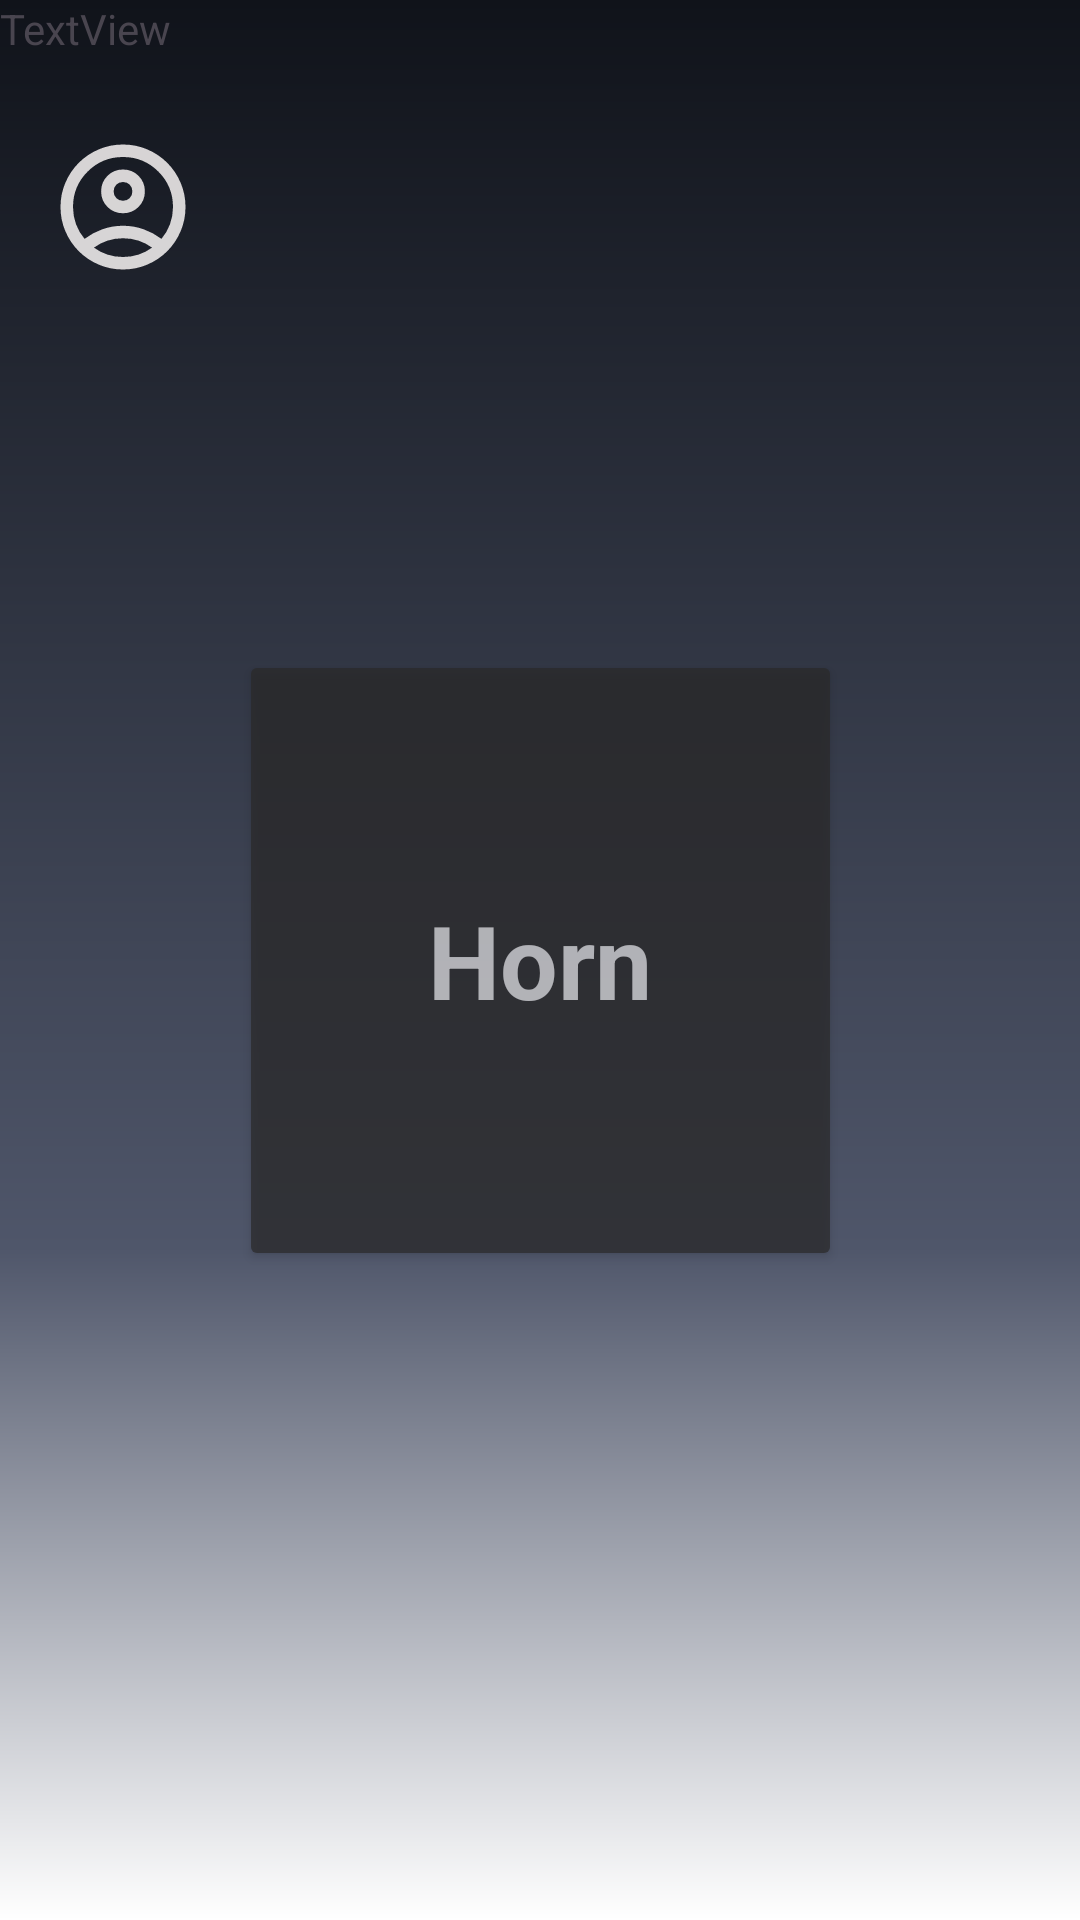

Icon click points for this 1080px x 1920px phone screenshot, format (x=x, y=y):
face: (x=123, y=207)
